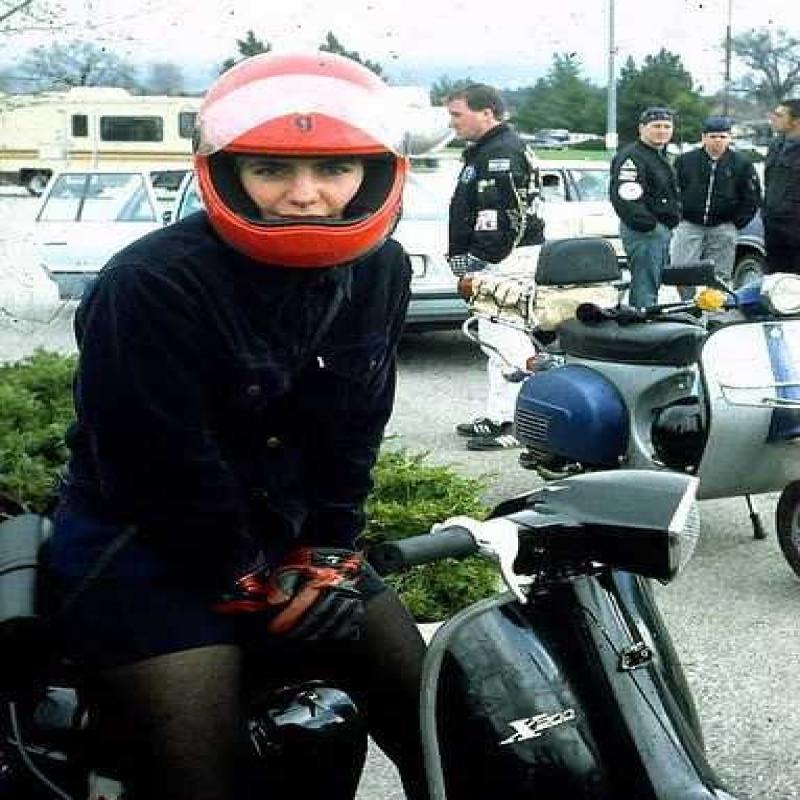bike: (446, 448, 793, 800)
